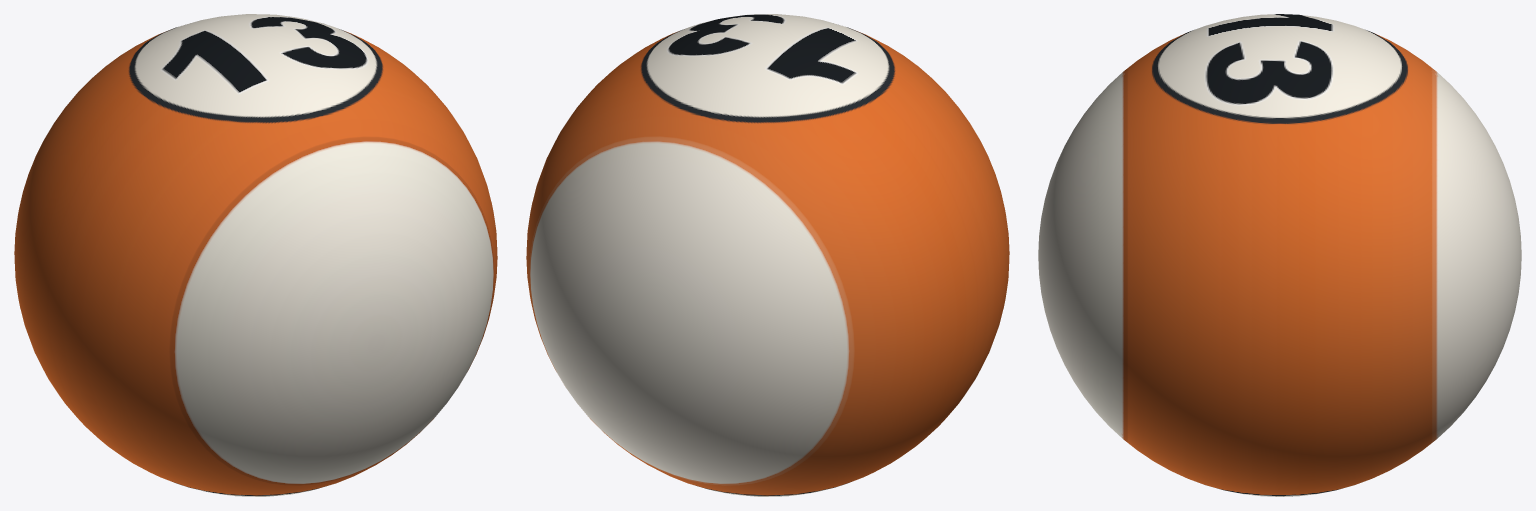
File: ball-pool-13.glb
3 views of the same model, side by side, from view 1: azimuth 30°, elevation 25°; view 2: azimuth 150°, elevation 25°; view 3: azimuth 270°, elevation 25° (orthographic).
Visible parts, largest first — view 1: ball; view 2: ball; view 3: ball.
Boxes of the visible parts, x1=… form: ball: x1=14, y1=14, x2=497, y2=496; ball: x1=526, y1=14, x2=1009, y2=496; ball: x1=1038, y1=14, x2=1521, y2=496.
Bounding box in the file's own units: 0.0655 × 0.0655 × 0.0655.
Materials: 1 (1 with a texture image).
